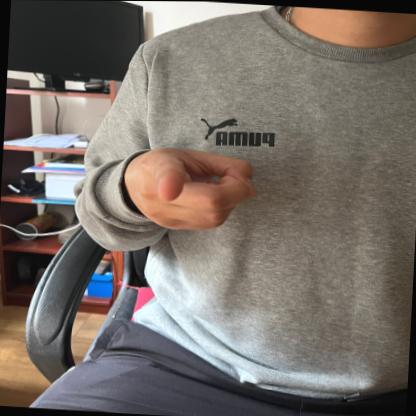X: (116, 135, 260, 241)
